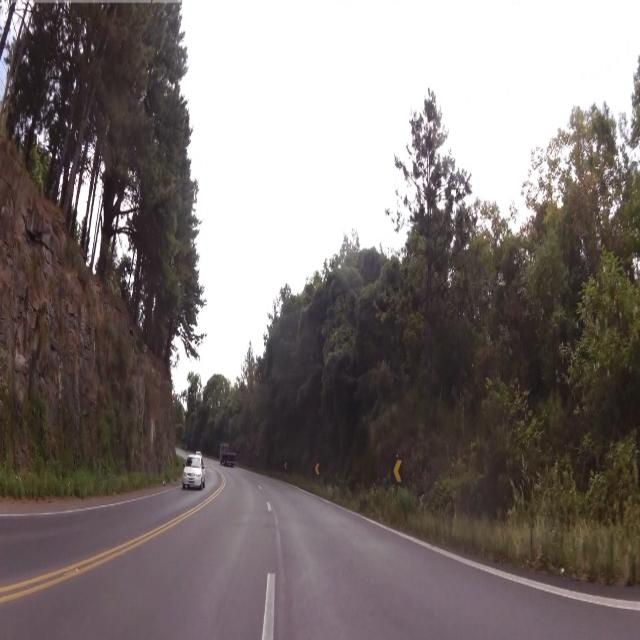Del: (390, 452, 404, 484)
